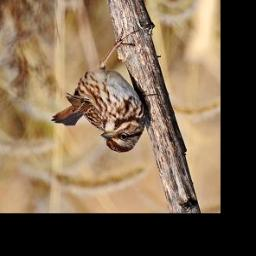Sparrow: (49, 28, 149, 154)
